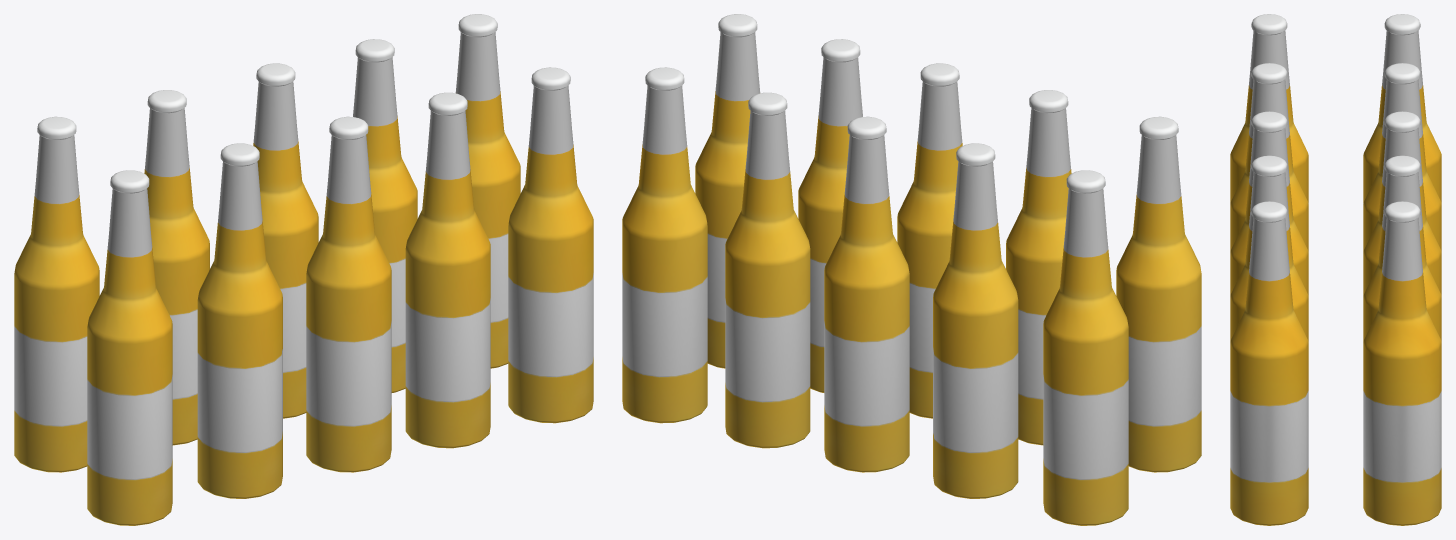
File: Bottles01_2.FBX
3 views of the same model, side by side, from view 1: azimuth 30°, elevation 25°; view 2: azimuth 150°, elevation 25°; view 3: azimuth 270°, elevation 25° (orthographic). The views are drawn at different scales.
Parts seen in each view (by area): view 1: Bottles01_2; view 2: Bottles01_2; view 3: Bottles01_2.
Part boxes in pixels (<box>): Bottles01_2: <box>14,14,593,525</box>; Bottles01_2: <box>622,14,1201,525</box>; Bottles01_2: <box>1230,14,1441,525</box>.
Bounding box in the file's own units: 45.66 × 29.45 × 18.51.
